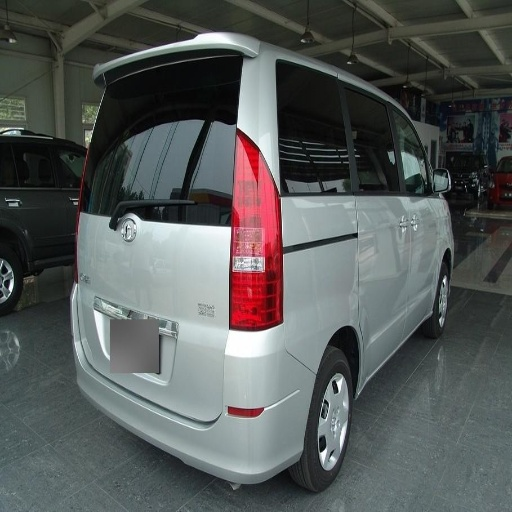back_bumper: (76, 327, 318, 483)
back_glass: (87, 89, 203, 212)
back_right_door: (100, 111, 200, 238)
tailgate: (82, 319, 122, 380)
trunk: (81, 226, 242, 419), (249, 184, 383, 363)
